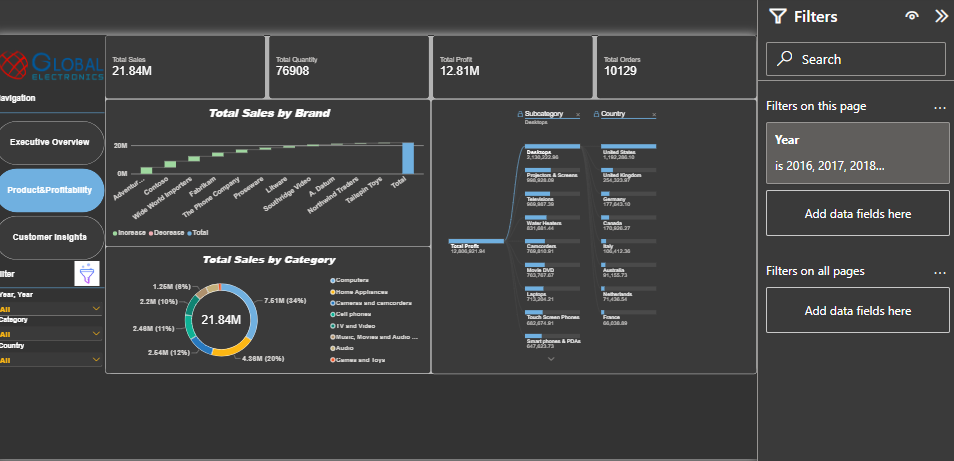

The dashboard page shown, as its layout file describes it:
{"tool":"powerbi","page":{"name":"Product&Profitability","canvas":[1800,1000],"ordinal":1},"visuals":[{"type":"shape","box":[259.8,2.4,1540.2,798.4],"z":0},{"type":"image","box":[0,0,259.1,139.6],"z":1000},{"type":"textbox","box":[0,139.6,259.1,38.6],"z":2000},{"type":"shape","box":[0,178.2,259.1,12.9],"z":3000},{"type":"pageNavigator","box":[0,202.1,259.1,330.7],"z":4000},{"type":"textbox","box":[0,554.9,259.1,36.7],"z":5000},{"type":"shape","box":[0,591.6,259.1,12.9],"z":6000},{"type":"image","box":[174.5,532.8,84.5,58.8],"z":7000},{"type":"slicer","fields":{"Values":["Calendar.Year","Calendar.Year"]},"box":[0,602.4,259.1,60.6],"z":8000},{"type":"slicer","fields":{"Values":["Products.Category"]},"box":[0,663.8,259.1,60.6],"z":9000},{"type":"slicer","fields":{"Values":["Customers.Country"]},"box":[0,725.2,259.1,60.6],"z":10000},{"type":"cardVisual","fields":{"Data":["_Measures.Total Sales","_Measures.Total Quantity","_Measures.Total Profit","_Measures.Total Orders"]},"box":[259.8,0,1540.2,151.2],"z":11000},{"type":"waterfallChart","fields":{"Category":["Products.Brand"],"Y":["_Measures.Total Sales"]},"box":[259.8,151.2,770.1,349.6],"z":12000},{"type":"donutChart","fields":{"Category":["Products.Category"],"Y":["_Measures.Total Sales"]},"box":[259.8,498.4,770.1,302.4],"z":13000},{"type":"decompositionTreeVisual","fields":{"Analyze":["_Measures.Total Profit"],"ExplainBy":["Products.Subcategory","Customers.Country"]},"box":[1029.9,151.2,770.1,649.6],"z":14000}]}

Visuals, with their boxes on the page's 1800x1000 design canvas (x1, y1, x2, y2). These are canvas units, not pixel positions in the 954x461 screenshot, which may show the page scaled, cropped or inside an application window:
shape: bbox=(260, 2, 1800, 801)
image: bbox=(0, 0, 259, 140)
textbox: bbox=(0, 140, 259, 178)
shape: bbox=(0, 178, 259, 191)
pageNavigator: bbox=(0, 202, 259, 533)
textbox: bbox=(0, 555, 259, 592)
shape: bbox=(0, 592, 259, 604)
image: bbox=(174, 533, 259, 592)
slicer - Calendar.Year x Calendar.Year: bbox=(0, 602, 259, 663)
slicer - Products.Category: bbox=(0, 664, 259, 724)
slicer - Customers.Country: bbox=(0, 725, 259, 786)
cardVisual - _Measures.Total Sales x _Measures.Total Quantity: bbox=(260, 0, 1800, 151)
waterfallChart - Products.Brand x _Measures.Total Sales: bbox=(260, 151, 1030, 501)
donutChart - Products.Category x _Measures.Total Sales: bbox=(260, 498, 1030, 801)
decompositionTreeVisual - _Measures.Total Profit x Products.Subcategory: bbox=(1030, 151, 1800, 801)
